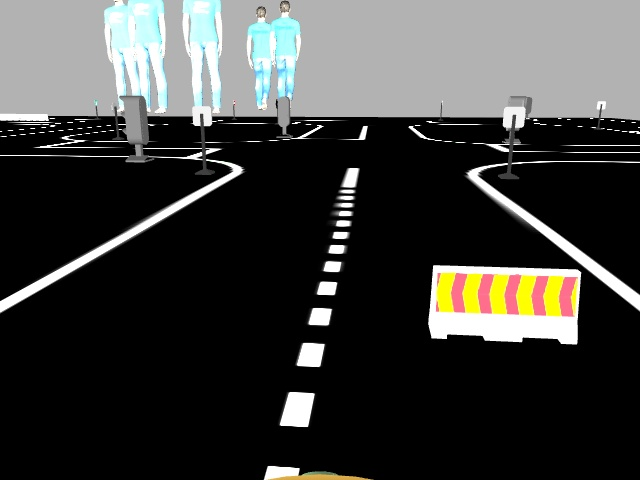ClosedRoadStand: (433, 264, 576, 341)
